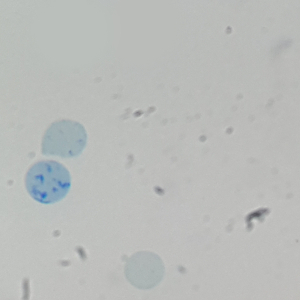aggregate reticulocyte: (24, 158, 73, 205)
erythrocyte: (122, 251, 166, 291)
punctate reticulocyte: (39, 118, 89, 159)
